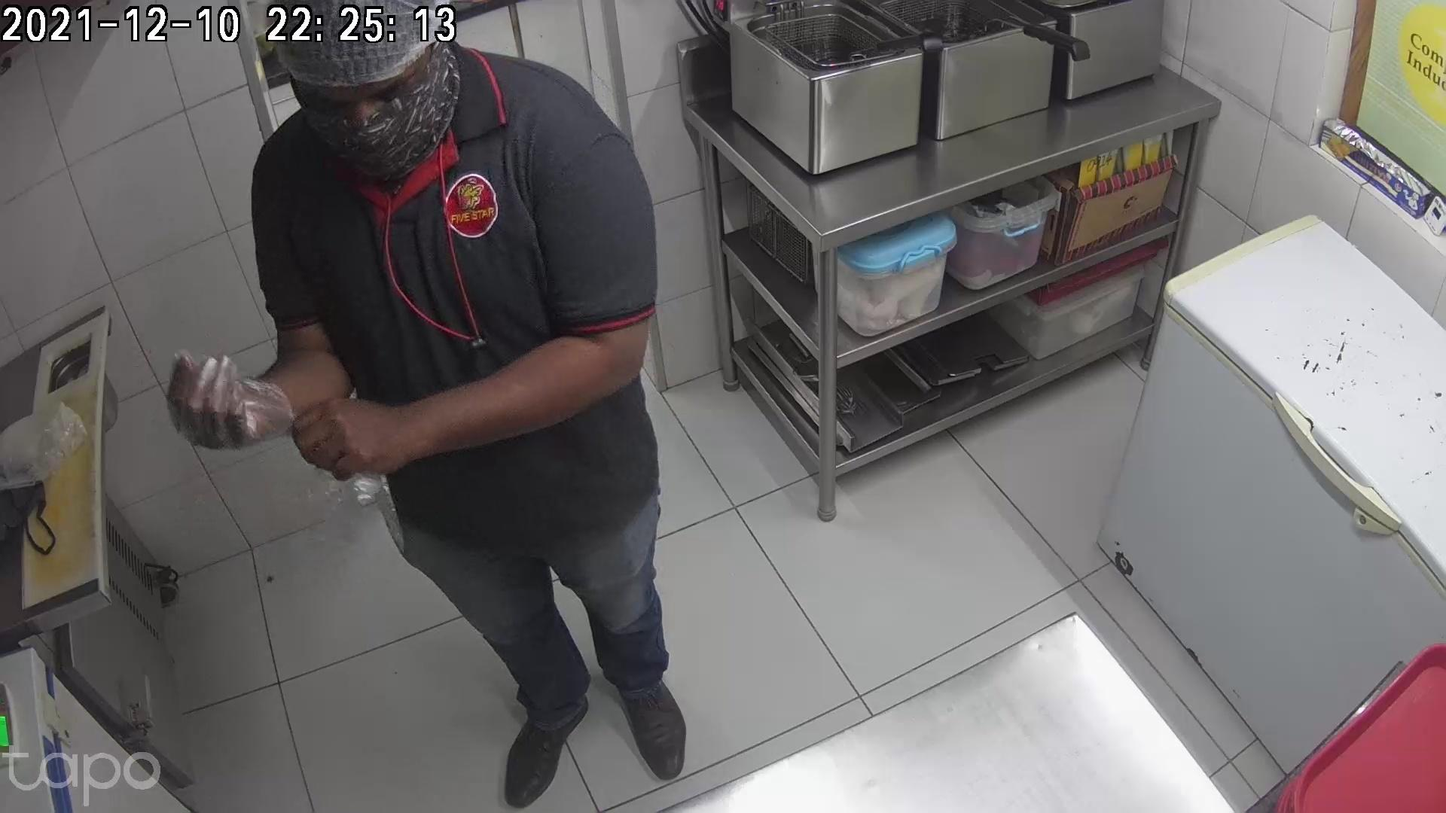gloves: (167, 340, 289, 433)
no_gloves: (289, 405, 458, 480)
